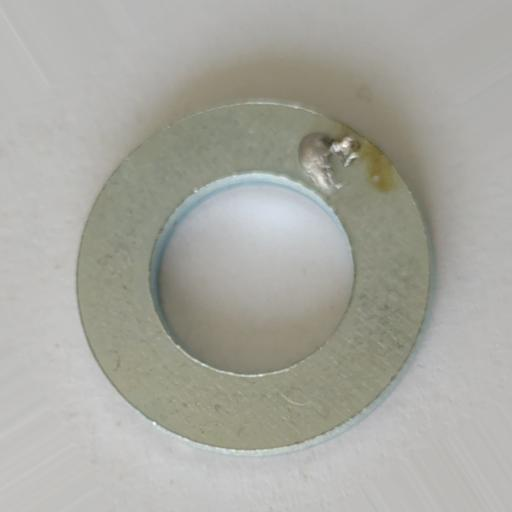excess_material: (299, 131, 362, 193)
